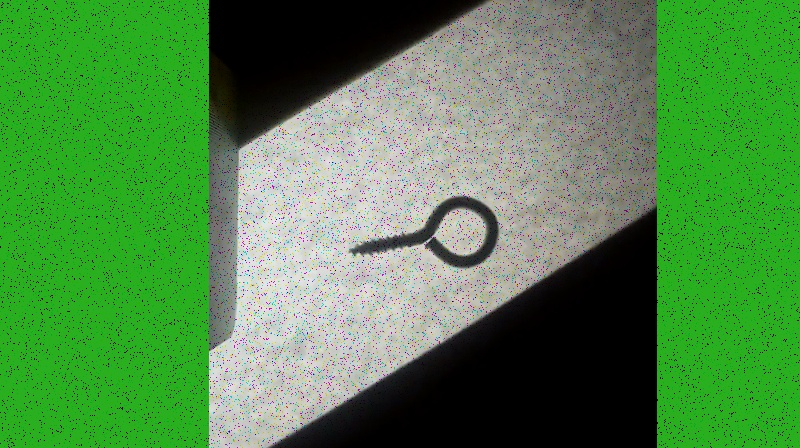O001: (344, 191, 499, 273)
